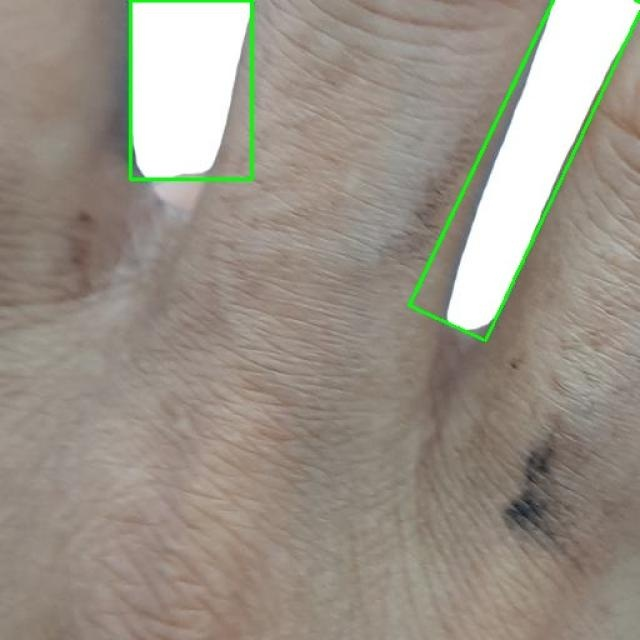Scabies: (410, 0, 640, 341), (130, 0, 251, 179)
